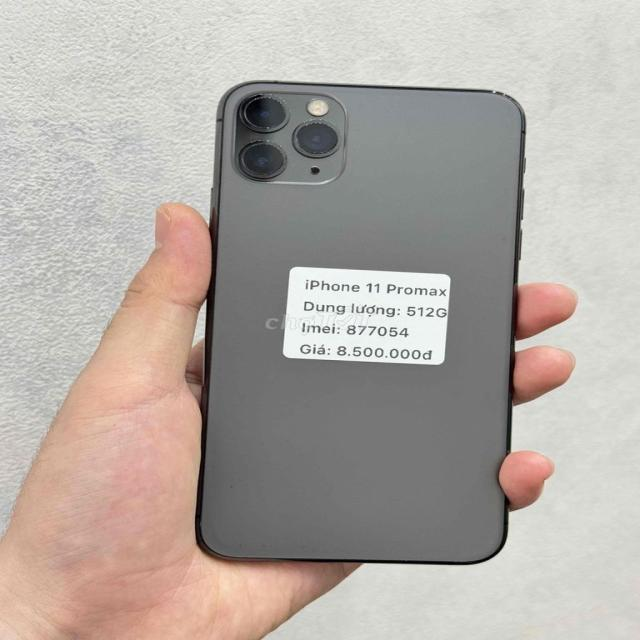gen_11: (187, 79, 536, 571)
